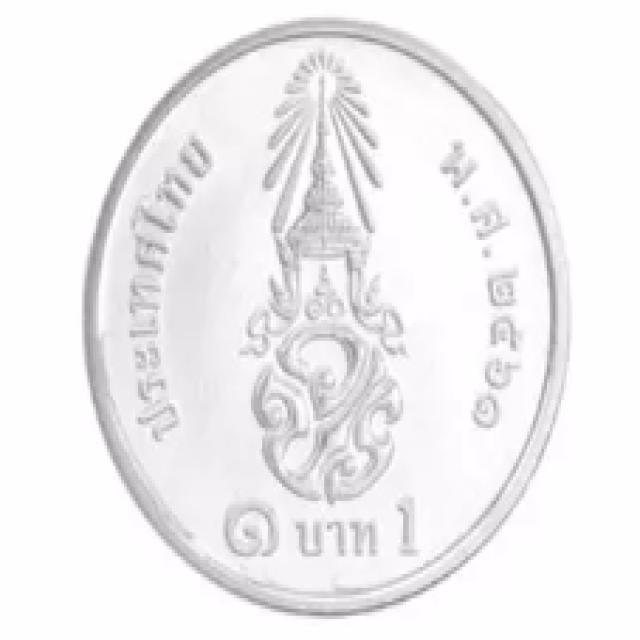1 Bath: (54, 2, 592, 633)
